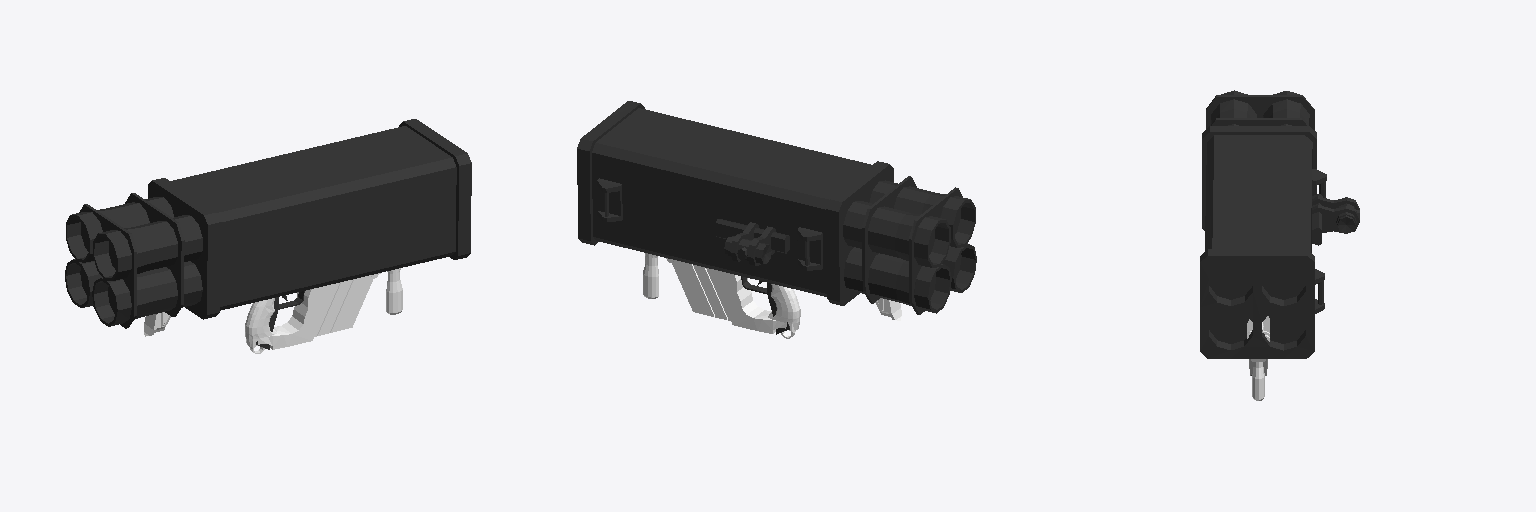
Rendered from launcher.obj.
3 views of the same model, side by side, from view 1: azimuth 30°, elevation 25°; view 2: azimuth 150°, elevation 25°; view 3: azimuth 270°, elevation 25° (orthographic).
Parts seen in each view (by area): view 1: Object.000_Mesh.000_Material_976ce44c.dds, SMG_Plane; view 2: Object.000_Mesh.000_Material_976ce44c.dds, SMG_Plane; view 3: Object.000_Mesh.000_Material_976ce44c.dds, SMG_Plane.
Part boxes in pixels (left/top/right/bottom): Object.000_Mesh.000_Material_976ce44c.dds: left=65, top=119, right=471, bottom=349; SMG_Plane: left=144, top=268, right=402, bottom=353; Object.000_Mesh.000_Material_976ce44c.dds: left=577, top=101, right=976, bottom=334; SMG_Plane: left=643, top=253, right=901, bottom=338; Object.000_Mesh.000_Material_976ce44c.dds: left=1200, top=90, right=1359, bottom=375; SMG_Plane: left=1247, top=316, right=1269, bottom=400.
Bounding box in the file's own units: 0.8081 × 0.384 × 0.3193.